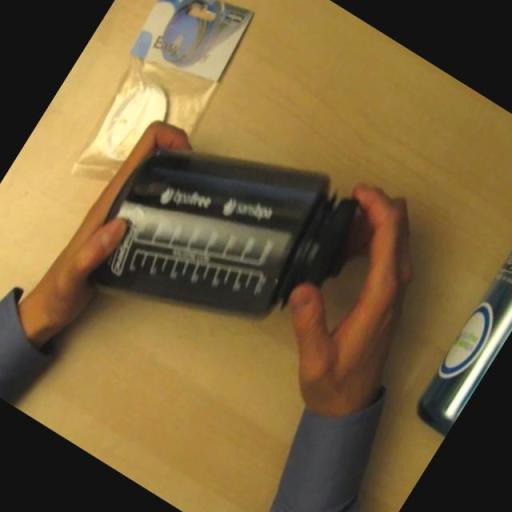bottle: (64, 80, 384, 398)
